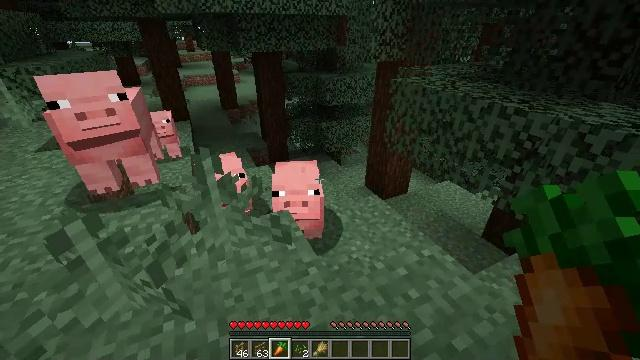pig: (32, 73, 159, 192), (272, 163, 323, 241), (213, 151, 249, 216), (148, 111, 180, 159)
